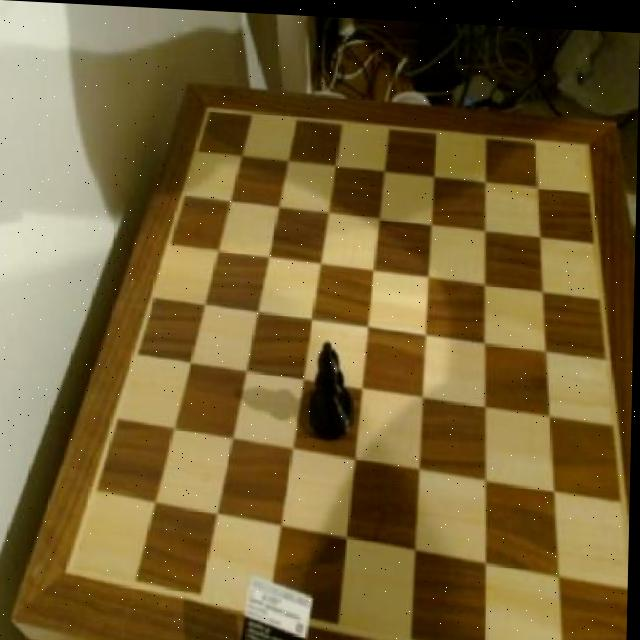bishop: (303, 334, 359, 444)
